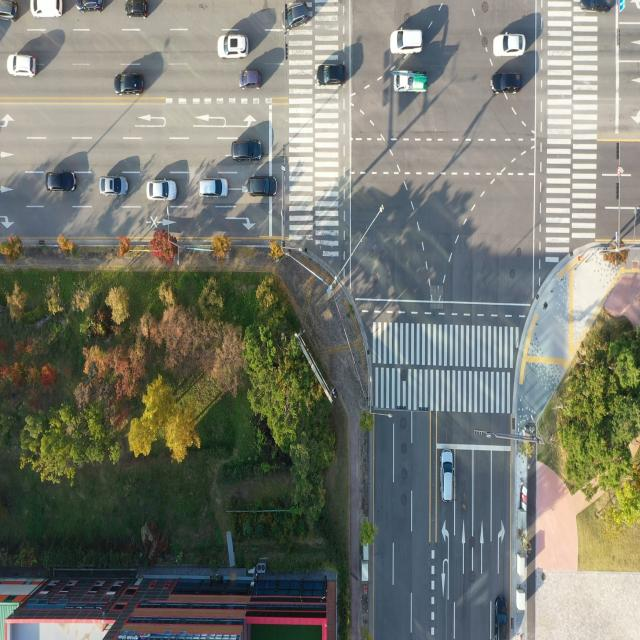car: (314, 58, 348, 88), (388, 26, 424, 54), (280, 0, 309, 34), (115, 72, 145, 100), (488, 72, 522, 96), (6, 54, 36, 80), (30, 0, 65, 22), (490, 36, 525, 58), (442, 450, 456, 504), (219, 33, 248, 59), (232, 140, 262, 163), (249, 176, 279, 199), (47, 172, 77, 194), (147, 180, 177, 202), (197, 178, 228, 198), (99, 176, 127, 198), (494, 595, 508, 639), (238, 72, 264, 94), (123, 0, 149, 21), (579, 0, 613, 15), (0, 0, 21, 23), (72, 0, 105, 13)
small_truck: (392, 72, 427, 97)
